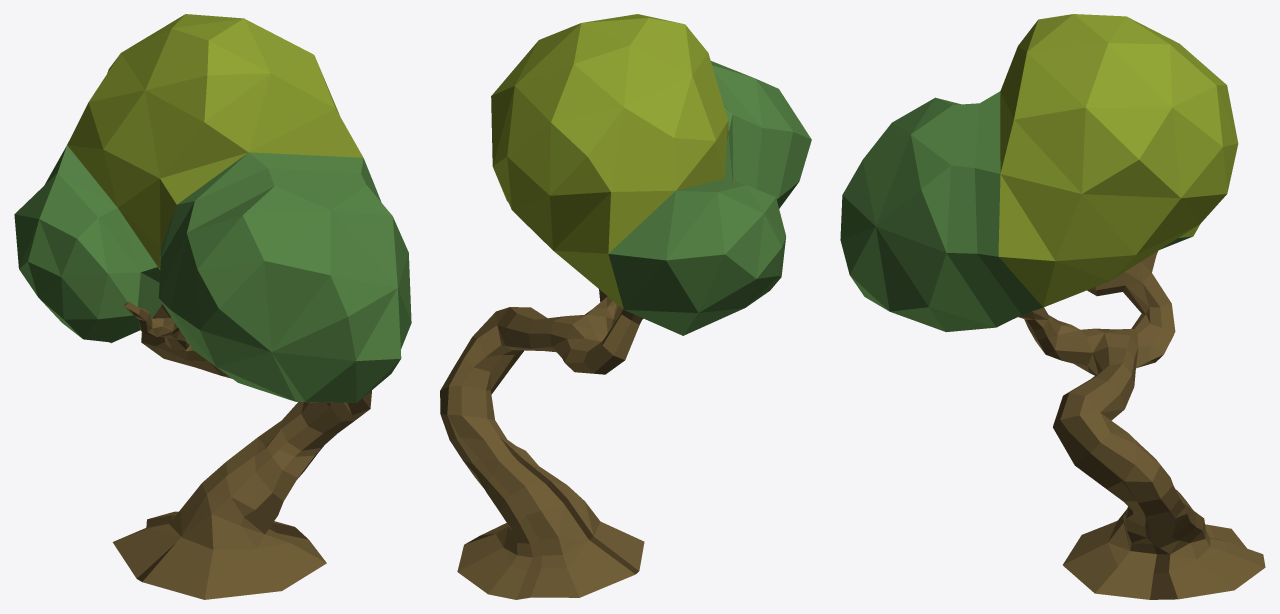
Rendered from EM_Tree3a.fbx.
3 renders of one model, left to right at view 1: azimuth 30°, elevation 25°; view 2: azimuth 150°, elevation 25°; view 3: azimuth 270°, elevation 25°, orthographic. The views are drawn at different scales.
Visible parts, largest first — view 1: EM_Tree3a_LOD0; view 2: EM_Tree3a_LOD0; view 3: EM_Tree3a_LOD0.
Part boxes in pixels (x1=…): EM_Tree3a_LOD0: x1=14, y1=14, x2=411, y2=599; EM_Tree3a_LOD0: x1=440, y1=14, x2=811, y2=599; EM_Tree3a_LOD0: x1=840, y1=14, x2=1265, y2=599.
Size of what is drawn, in the model's own units: 5.72 by 8.94 by 6.59.
